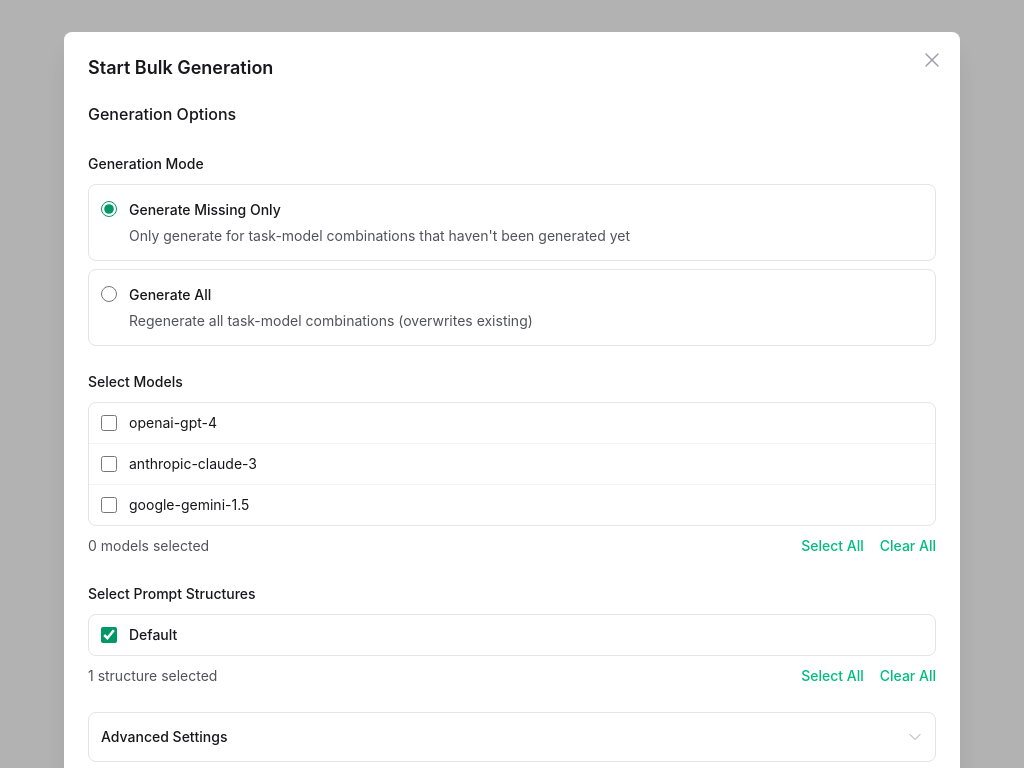
GenerationControlModal › handles select all functionality
The image size is (1024, 768).
What coordinates should you click on to do the following:
click the button "Select All" in the row of "0 models selected"
I would click on:
 (832, 546)
Its box is [801,537,864,555].
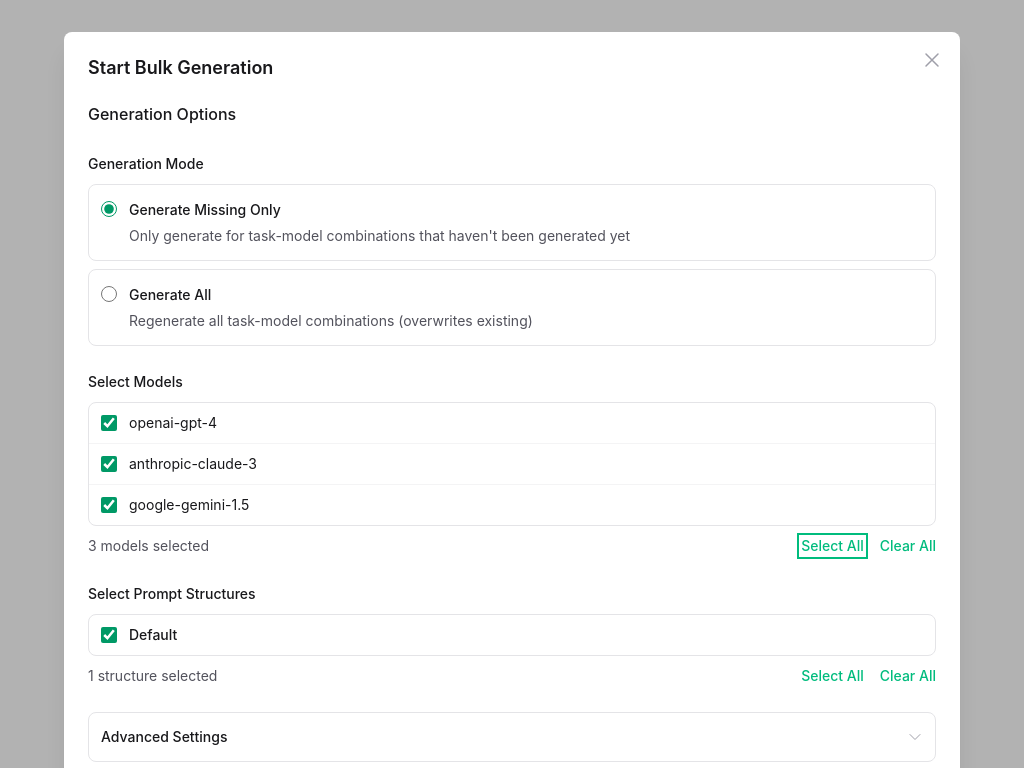
Expected: the checkbox labelled "openai-gpt-4" is checked, [101,415,117,431]
Expected: the checkbox labelled "anthropic-claude-3" is checked, [101,456,117,472]
Expected: the checkbox labelled "google-gemini-1.5" is checked, [101,497,117,513]
